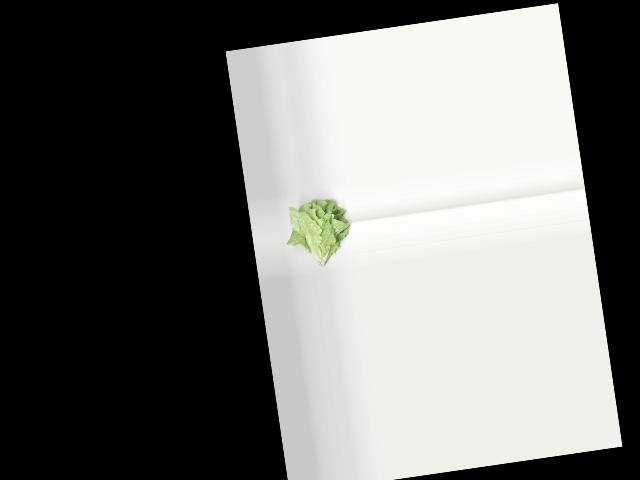lettuce: (282, 191, 359, 275)
